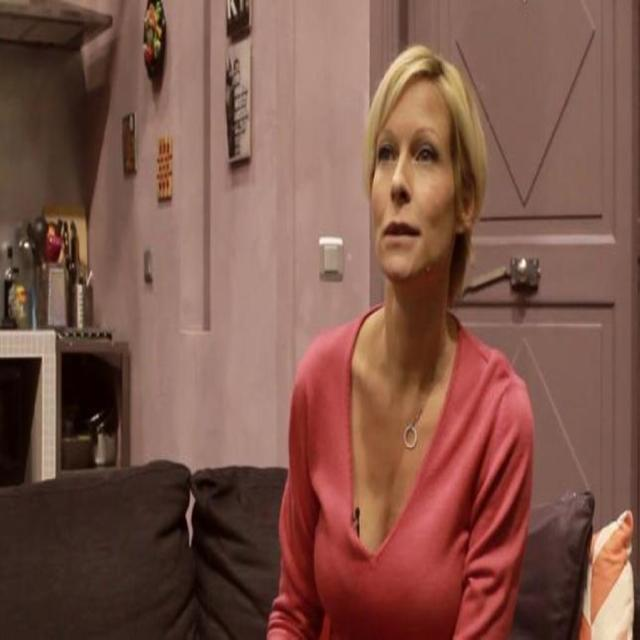Face: (378, 85, 468, 291)
